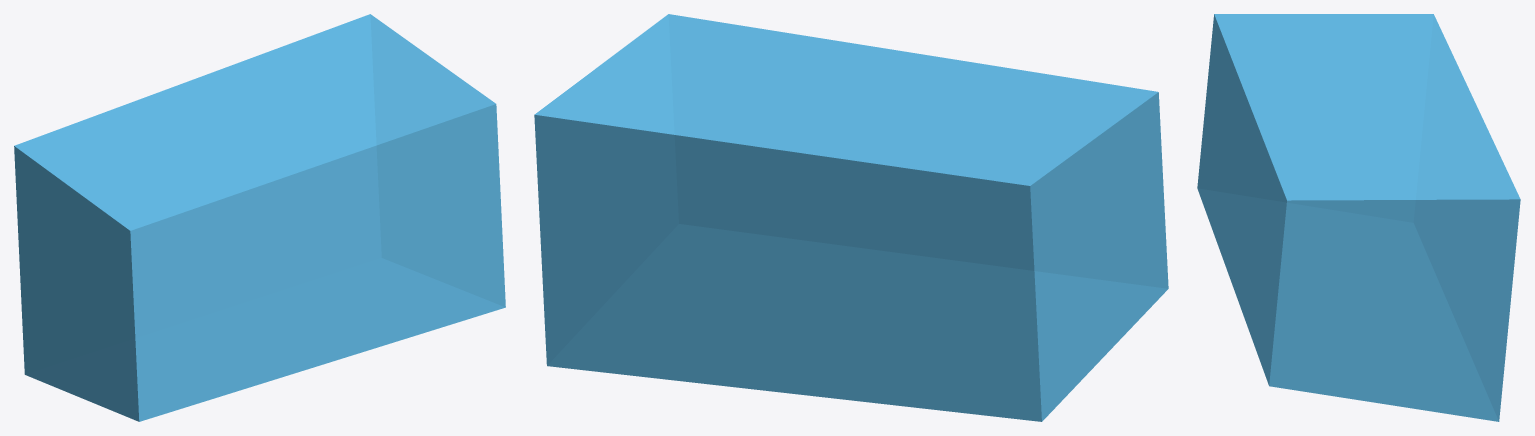
Rendered from Event_420107950_HErechit_58.fbx.
3 views of the same model, side by side, from view 1: azimuth 30°, elevation 25°; view 2: azimuth 150°, elevation 25°; view 3: azimuth 270°, elevation 25° (orthographic). The views are drawn at different scales.
Parts seen in each view (by area): view 1: Model; view 2: Model; view 3: Model.
Boxes of the visible parts, left/top/right/bottom form: Model: left=14, top=14, right=505, bottom=421; Model: left=534, top=14, right=1168, bottom=421; Model: left=1197, top=14, right=1520, bottom=421.
Size of the model in its own units: 0.7297 by 0.406 by 0.5346.
